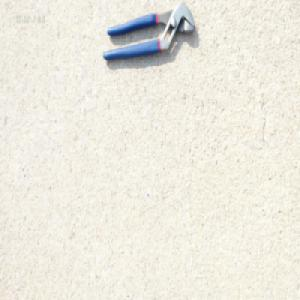Pliers: (102, 2, 196, 63)
